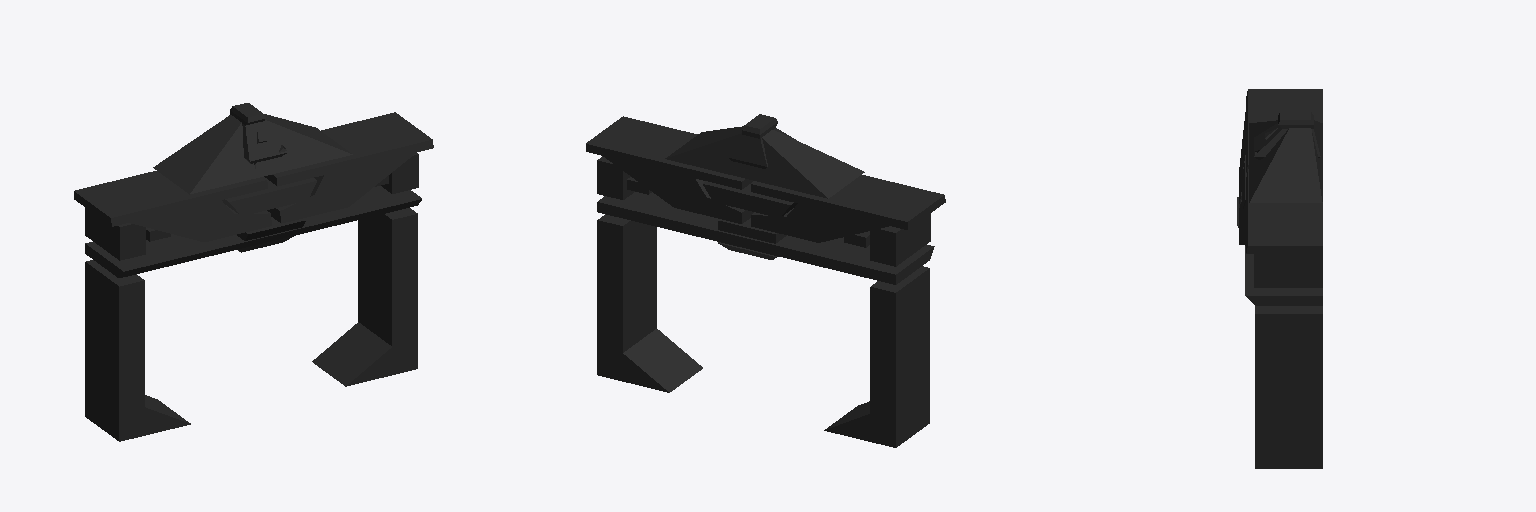
File: recognizer_noGlow.obj
3 renders of one model, left to right at view 1: azimuth 30°, elevation 25°; view 2: azimuth 150°, elevation 25°; view 3: azimuth 270°, elevation 25°, orthographic.
Parts seen in each view (by area): view 1: recog; view 2: recog; view 3: recog.
Part boxes in pixels (bbox=[...]): recog: bbox=[74, 103, 433, 441]; recog: bbox=[586, 114, 945, 447]; recog: bbox=[1237, 89, 1322, 468].
Bounding box in the file's own units: 12 × 9.99 × 2.77.